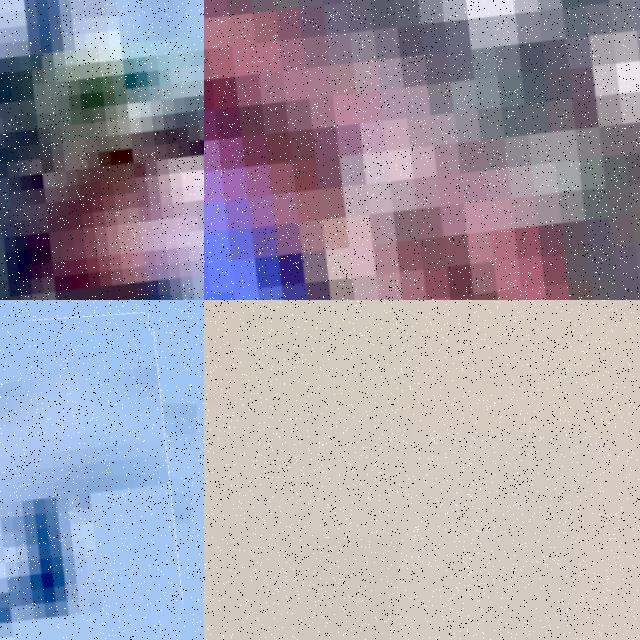0: (0, 300, 204, 640), (0, 0, 204, 300)
drone: (204, 0, 640, 300)
